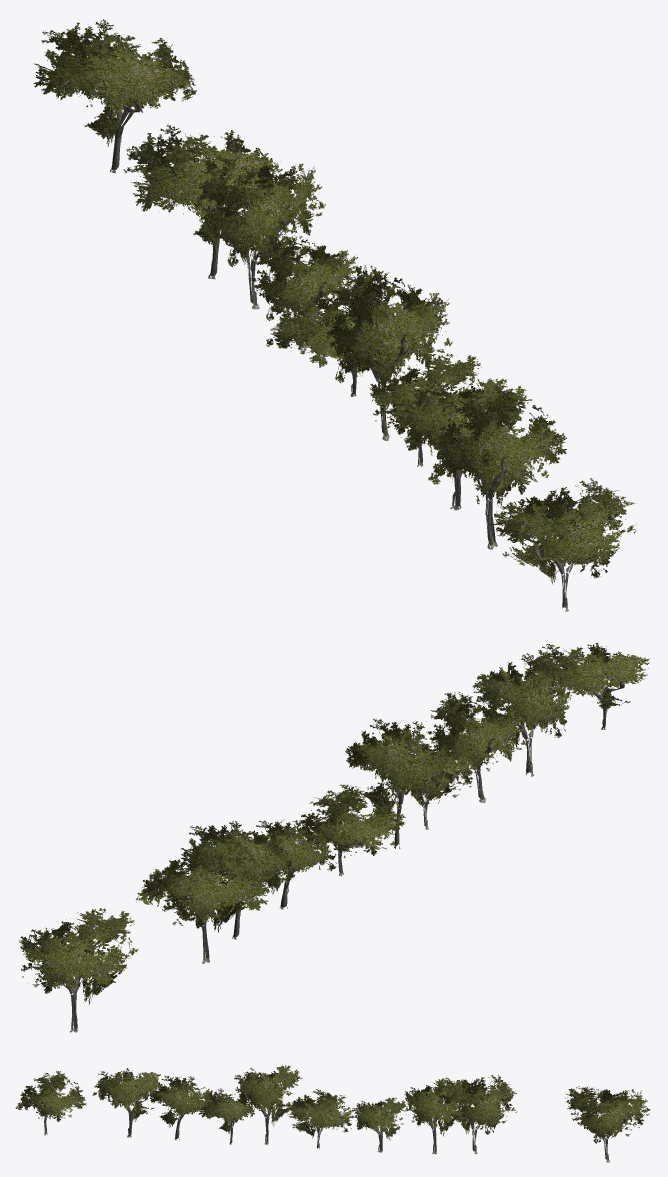
3 renders of one model, top to bottom at view 1: azimuth 30°, elevation 25°; view 2: azimuth 150°, elevation 25°; view 3: azimuth 270°, elevation 25°, orthographic. The views are drawn at different scales.
Visible parts, largest first — view 1: Island tree branch clusters, Island tree bark; view 2: Island tree branch clusters, Island tree bark; view 3: Island tree branch clusters, Island tree bark.
Boxes of the visible parts, x1,y1,x2,y2 form: Island tree branch clusters: (33,19,636,584); Island tree bark: (109,90,603,611); Island tree branch clusters: (19,643,650,1004); Island tree bark: (51,662,624,1032); Island tree branch clusters: (15,1065,650,1143); Island tree bark: (31,1088,628,1162).
Size of the model in its own units: 27.34 by 16.32 by 120.
2 materials, 2 textured.
